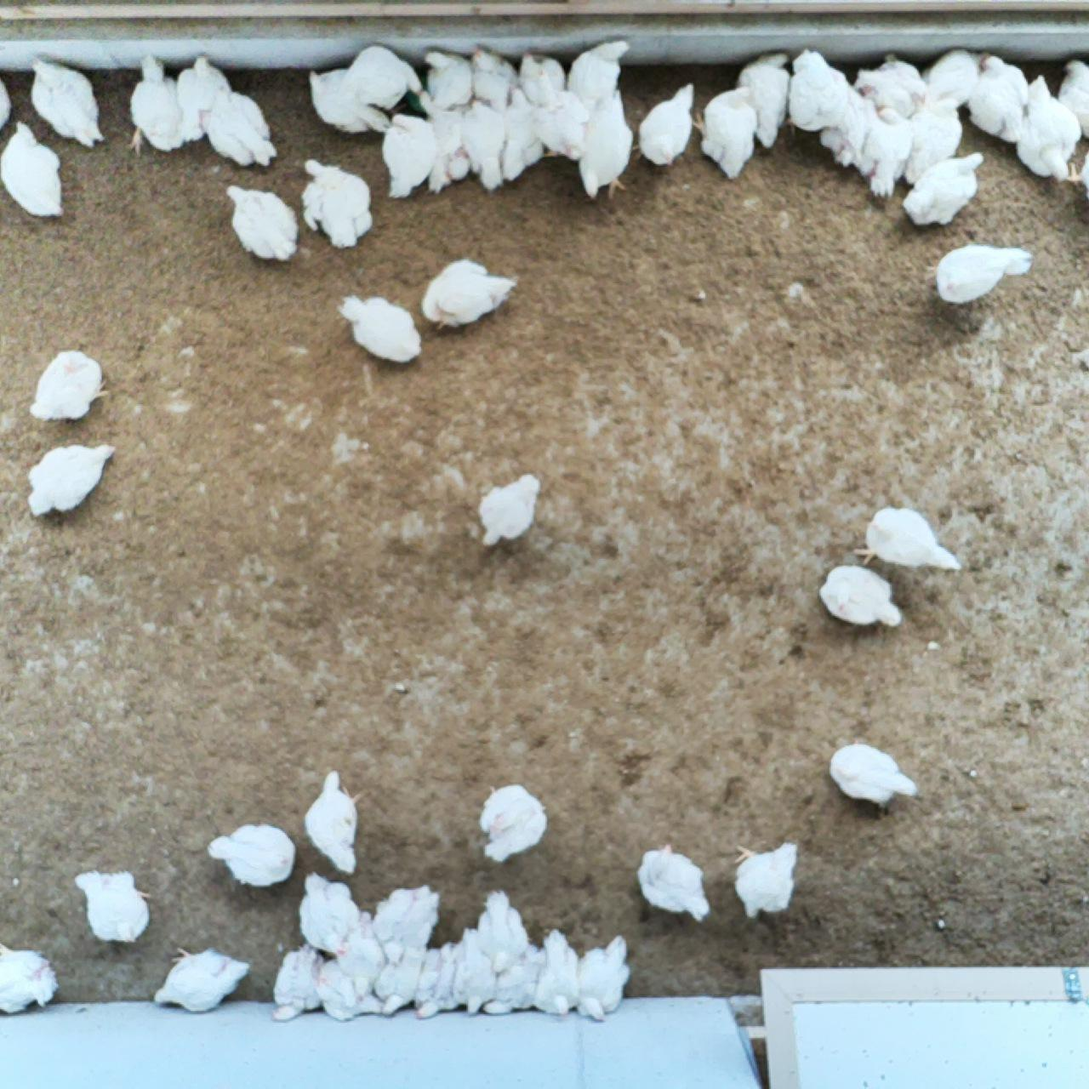chicken: (923, 235, 1035, 309), (420, 255, 520, 333), (853, 508, 964, 578), (1011, 73, 1082, 182), (25, 439, 118, 521), (28, 56, 109, 150), (300, 768, 369, 876), (827, 733, 921, 812), (299, 155, 376, 250), (901, 148, 989, 229), (335, 288, 424, 365), (125, 51, 189, 158), (632, 841, 714, 924), (693, 84, 761, 184), (0, 119, 66, 222), (579, 89, 638, 202), (153, 943, 249, 1012), (27, 347, 111, 425), (73, 866, 153, 946), (728, 838, 807, 919), (206, 821, 297, 891), (224, 181, 301, 263), (382, 883, 456, 967), (304, 68, 398, 134), (633, 81, 699, 174), (820, 560, 904, 631), (736, 49, 795, 150), (209, 87, 279, 172), (478, 780, 549, 863), (474, 468, 544, 552), (900, 100, 964, 190), (969, 52, 1031, 143), (341, 42, 423, 110), (859, 102, 916, 199), (380, 110, 438, 205), (410, 932, 469, 1024), (531, 68, 588, 163), (299, 867, 359, 956), (173, 52, 231, 144), (267, 941, 328, 1027), (417, 92, 467, 194), (482, 942, 547, 1019), (788, 47, 848, 130), (527, 87, 592, 163), (576, 935, 633, 1019), (335, 909, 388, 999), (532, 927, 582, 1020), (313, 959, 386, 1022), (369, 942, 430, 1017), (497, 87, 545, 182), (460, 97, 507, 194), (569, 39, 634, 107), (474, 884, 525, 970), (452, 925, 500, 1016), (852, 58, 925, 117), (0, 942, 58, 1016), (827, 98, 879, 171), (924, 44, 982, 104), (423, 53, 478, 111), (468, 41, 515, 105), (1056, 58, 1089, 141), (517, 47, 566, 97)
